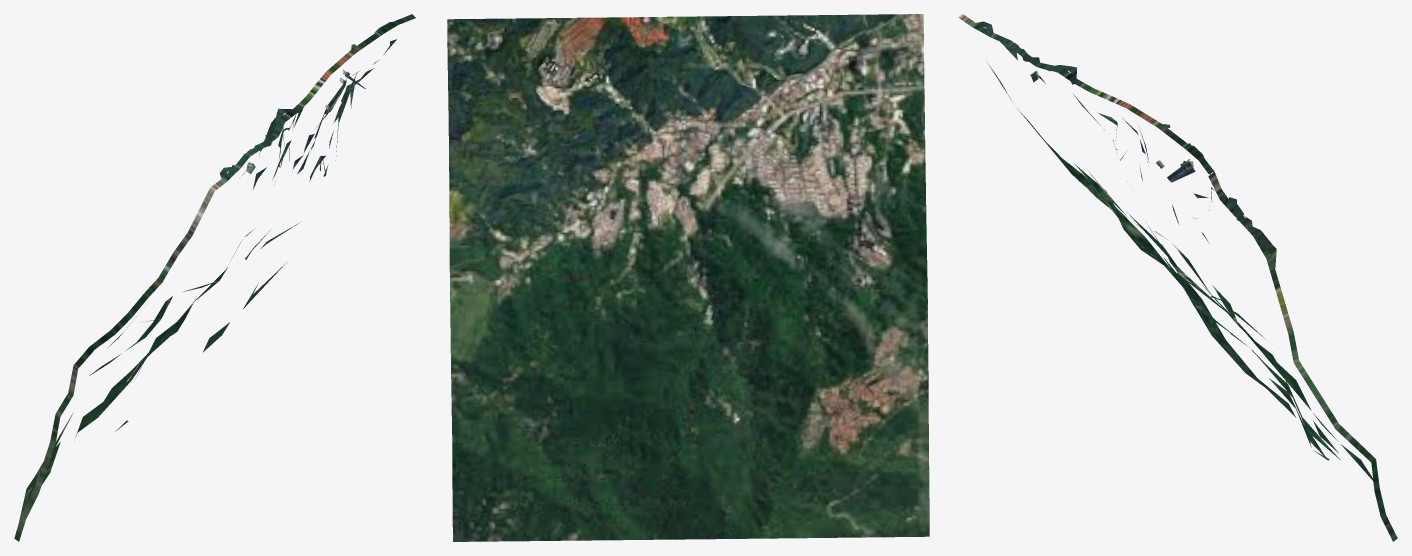
The picture shows the model from 3 angles, left to right: view 1: azimuth 30°, elevation 25°; view 2: azimuth 150°, elevation 25°; view 3: azimuth 270°, elevation 25°; orthographic projection. The views are drawn at different scales.
Bounding box in the file's own units: 4923 × 4496 × 4245.
Materials: 1 (1 with a texture image).
